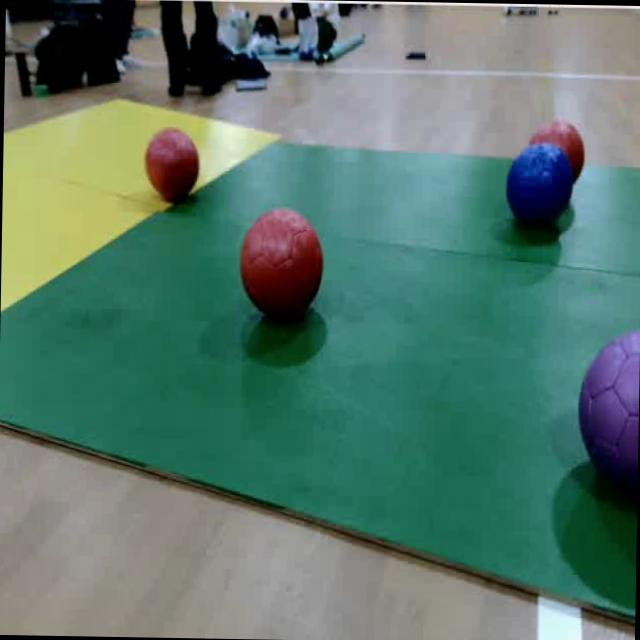blue_ball: (505, 140, 575, 234)
purple_ball: (576, 324, 640, 496)
red_ball: (240, 205, 326, 326), (142, 125, 202, 208), (528, 114, 588, 194)
